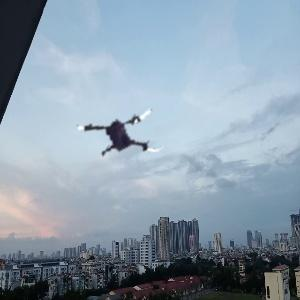drone: (78, 83, 172, 177)
